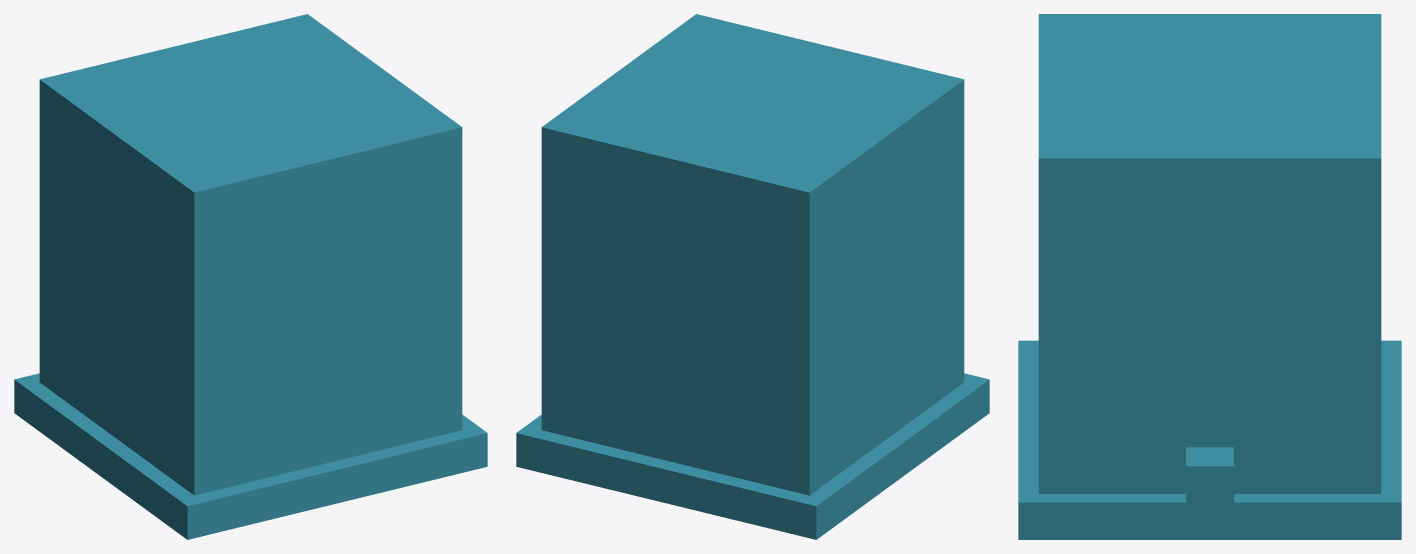
Rendered from Fire-water-tank.glb.
3 views of the same model, side by side, from view 1: azimuth 30°, elevation 25°; view 2: azimuth 150°, elevation 25°; view 3: azimuth 270°, elevation 25° (orthographic). The views are drawn at different scales.
Parts seen in each view (by area): view 1: fire-water-tank-static-tank-metal, fire-water-tank-static-tank-stone; view 2: fire-water-tank-static-tank-metal, fire-water-tank-static-tank-stone; view 3: fire-water-tank-static-tank-metal, fire-water-tank-static-tank-stone.
Boxes of the visible parts, x1=… form: fire-water-tank-static-tank-metal: x1=39, y1=14, x2=462, y2=495; fire-water-tank-static-tank-stone: x1=14, y1=373, x2=487, y2=539; fire-water-tank-static-tank-metal: x1=541, y1=14, x2=964, y2=495; fire-water-tank-static-tank-stone: x1=516, y1=373, x2=989, y2=539; fire-water-tank-static-tank-metal: x1=1038, y1=14, x2=1381, y2=509; fire-water-tank-static-tank-stone: x1=1018, y1=340, x2=1401, y2=539.
Bounding box in the file's own units: 2.98 × 3 × 2.8.
